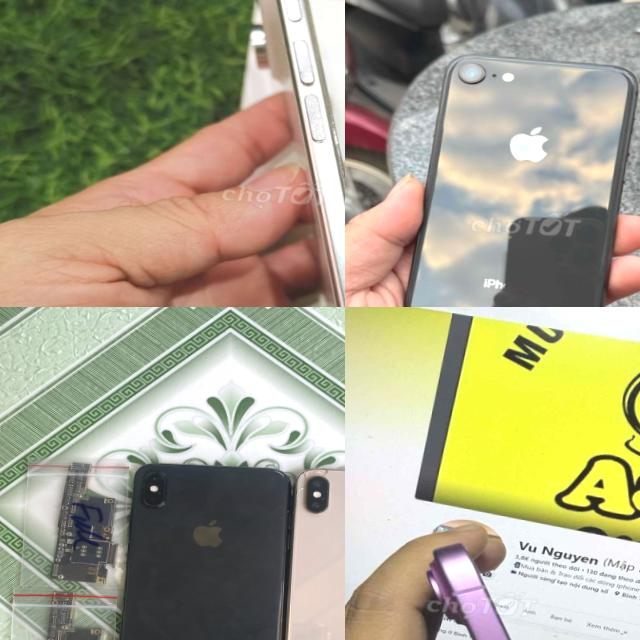gen_16: (411, 528, 609, 640)
gen_17: (205, 0, 345, 307)
gen_7_8: (397, 51, 639, 307)
gen_x_xs: (277, 462, 345, 640)
physical_damage: (286, 464, 336, 517)
